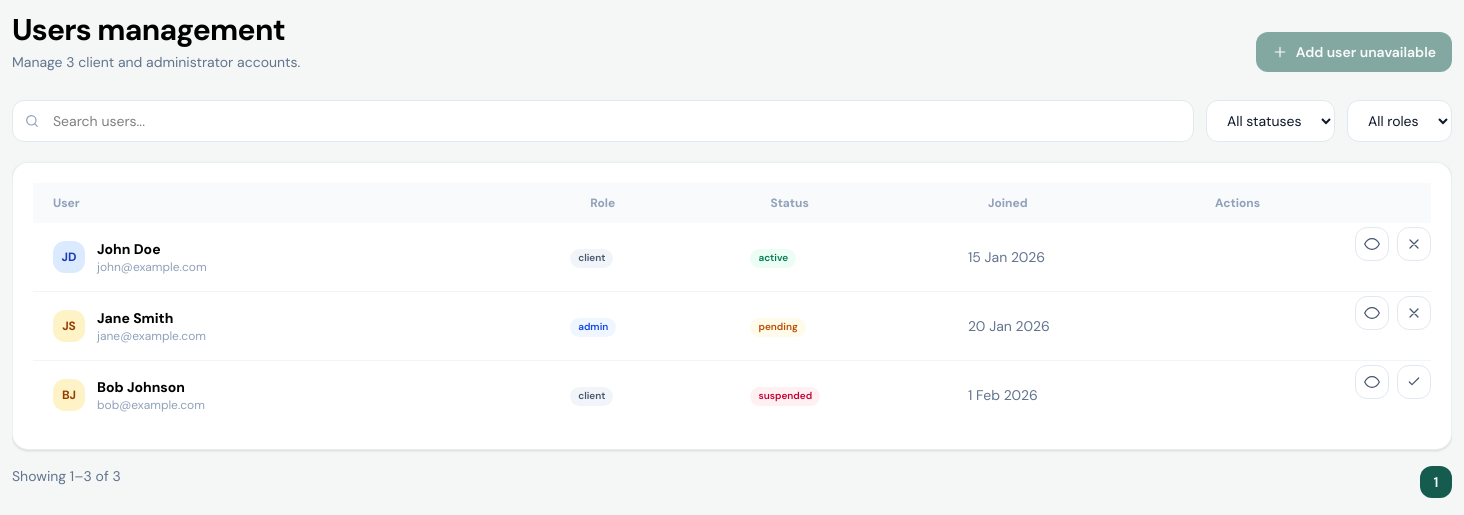
Test case: AdminUsers › filters users by status
Check: the text "John Doe" is shown, box [97,240,161,258]
Select "Suspended" in the dropdown named "Filter by user status" at (1270, 121), box [1206,100,1335,142]
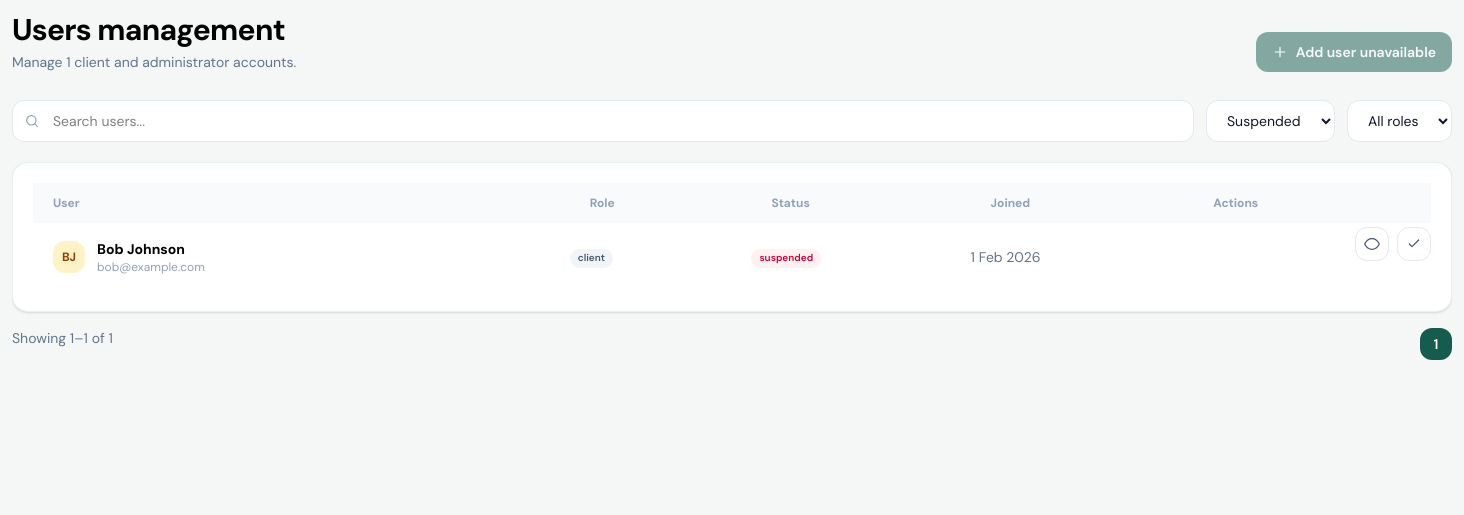
Check: the text "Bob Johnson" is shown, box [97,240,185,258]
Check: the text "John Doe" is gone
